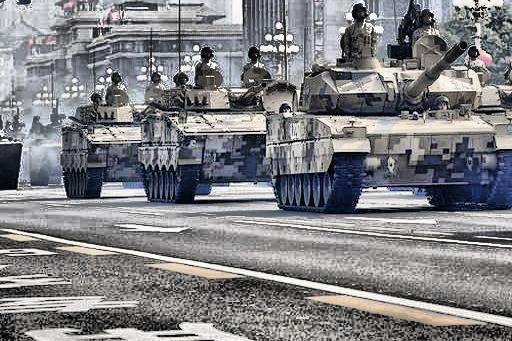tanks: (267, 44, 512, 214), (139, 66, 269, 204), (61, 94, 145, 200)
